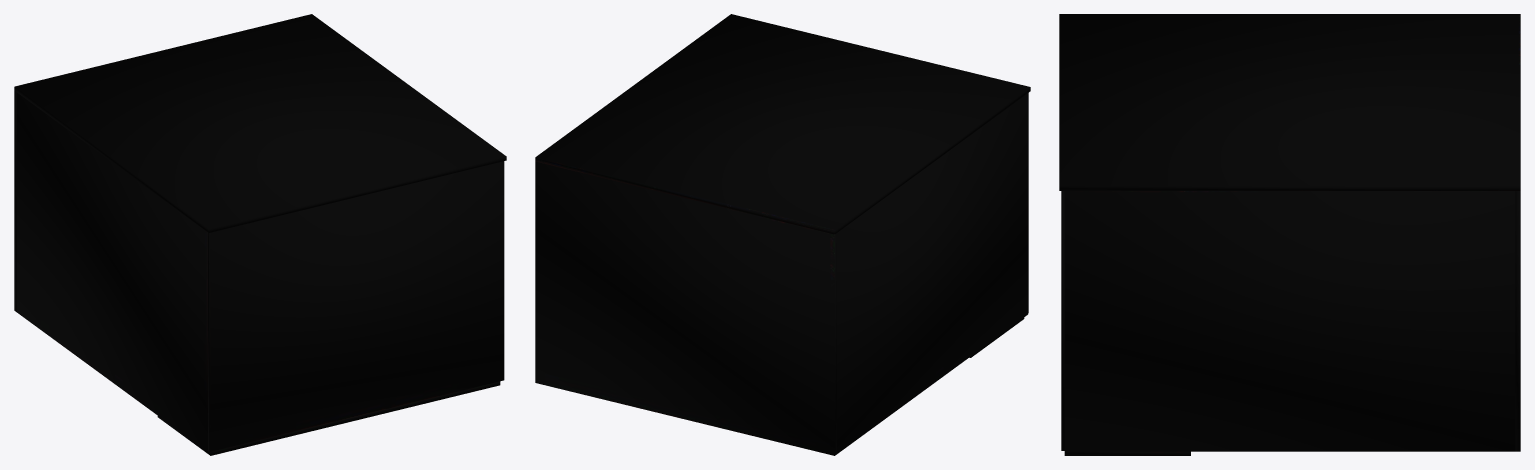
Rendered from hall_palace_glow.glb.
The picture shows the model from 3 angles, left to right: view 1: azimuth 30°, elevation 25°; view 2: azimuth 150°, elevation 25°; view 3: azimuth 270°, elevation 25°; orthographic projection. The views are drawn at different scales.
Parts seen in each view (by area): view 1: palace_shell, palace_ceiling, palace_floor; view 2: palace_shell, palace_ceiling; view 3: palace_shell, palace_ceiling, palace_floor.
Boxes of the visible parts, box(x1,y1,x2,y2) form: palace_shell: box(14, 91, 504, 452); palace_ceiling: box(14, 14, 506, 232); palace_floor: box(157, 381, 500, 455); palace_shell: box(535, 93, 1028, 455); palace_ceiling: box(535, 14, 1030, 234); palace_shell: box(1061, 191, 1520, 451); palace_ceiling: box(1059, 14, 1520, 190); palace_floor: box(1064, 451, 1190, 455).
Bounding box in the file's own units: 22.6 × 16.67 × 25.6.
Materials: 6 (6 with a texture image).
